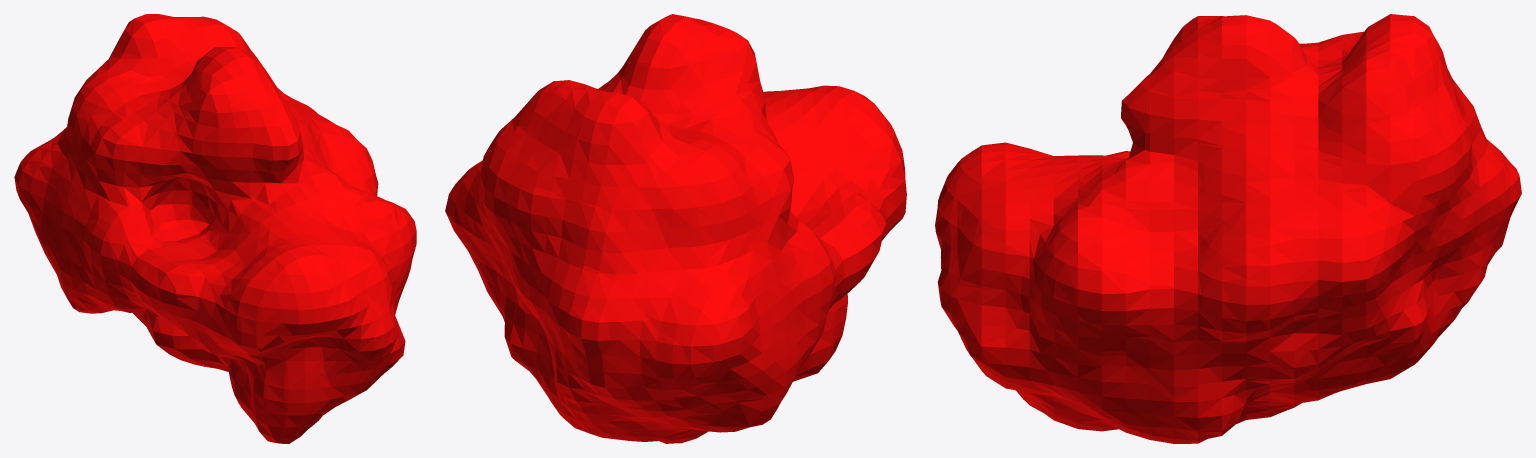
Rendered from frmA_coarse.dae.
The picture shows the model from 3 angles, left to right: view 1: azimuth 30°, elevation 25°; view 2: azimuth 150°, elevation 25°; view 3: azimuth 270°, elevation 25°; orthographic projection. The views are drawn at different scales.
Visible parts, largest first — view 1: frmA; view 2: frmA; view 3: frmA.
Part boxes in pixels (box(x1,y1,x2,y2)): frmA: box(14, 14, 416, 443); frmA: box(445, 14, 906, 443); frmA: box(935, 14, 1521, 443).
Bounding box in the file's own units: 48.23 × 55.02 × 70.6.
